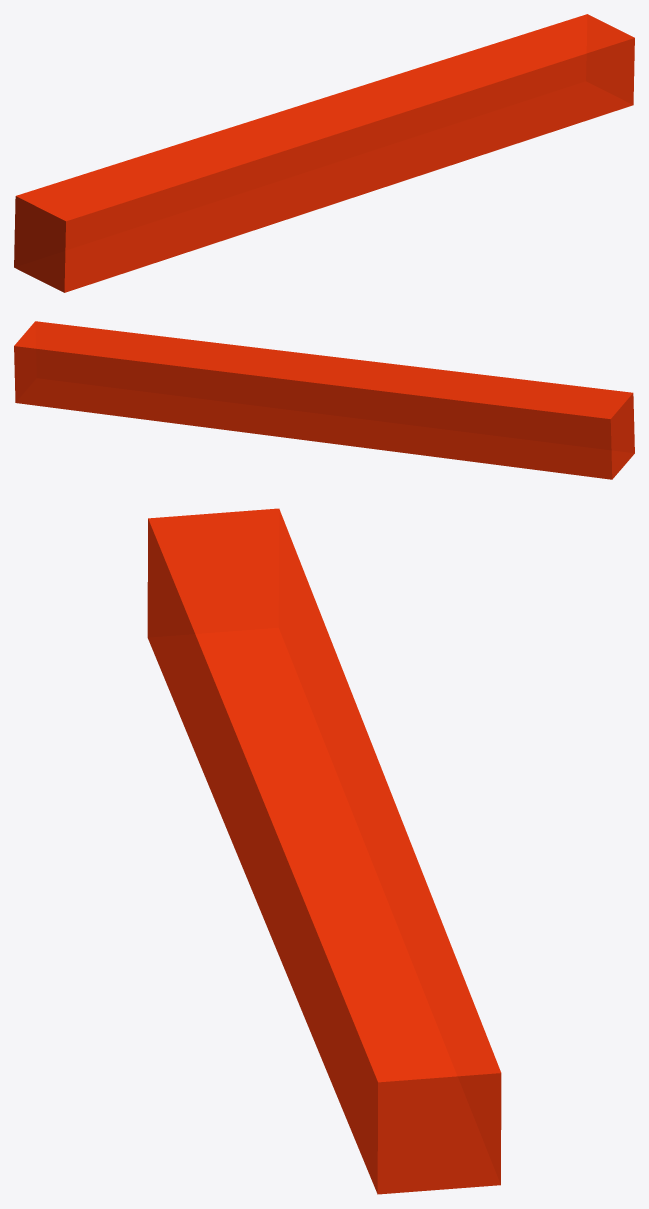
The model's file is Event_421556567_EErechit_23.fbx.
3 renders of one model, top to bottom at view 1: azimuth 30°, elevation 25°; view 2: azimuth 150°, elevation 25°; view 3: azimuth 270°, elevation 25°, orthographic. The views are drawn at different scales.
Parts seen in each view (by area): view 1: Model; view 2: Model; view 3: Model.
Boxes of the visible parts, left/top/right/bottom form: Model: left=14, top=14, right=634, bottom=292; Model: left=14, top=321, right=634, bottom=479; Model: left=147, top=508, right=501, bottom=1194.
Bounding box in the file's own units: 0.7389 × 0.0959 × 0.2051.
